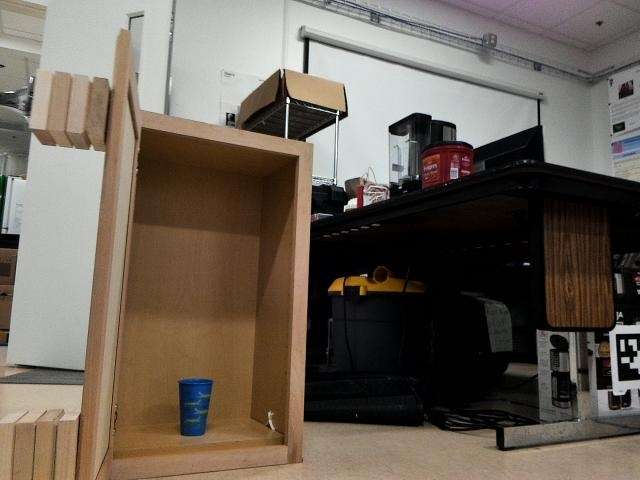water_cup: (170, 372, 215, 441)
